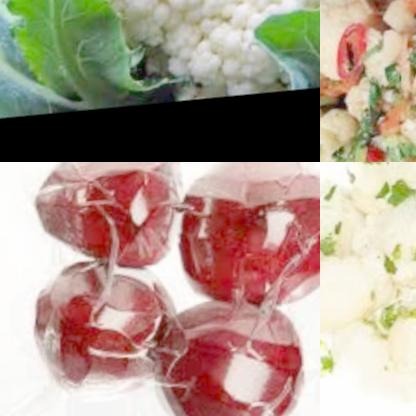beet: (162, 162, 320, 324), (20, 259, 182, 415), (153, 288, 308, 416), (14, 162, 182, 279)
cayliflower: (55, 0, 320, 109), (320, 162, 416, 416), (320, 0, 386, 100), (320, 89, 366, 162), (395, 70, 416, 162)
